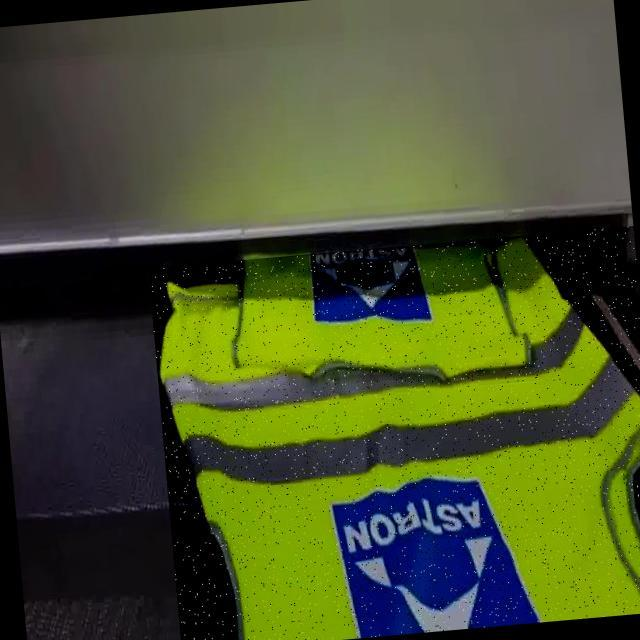Safety Vest: (147, 225, 640, 640)
